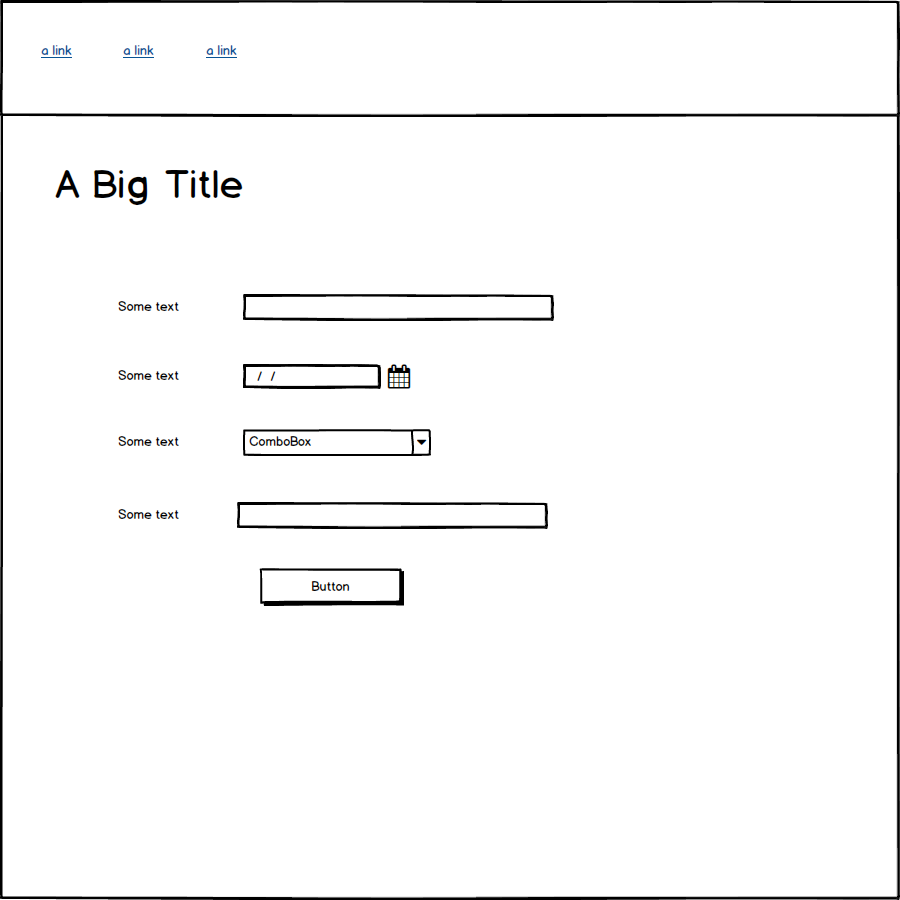button: (252, 564, 412, 614)
date_picker: (238, 360, 413, 395)
h1: (46, 156, 252, 210)
input: (238, 495, 550, 533), (239, 288, 555, 323)
label: (109, 429, 197, 454), (112, 501, 186, 528), (112, 362, 183, 389), (115, 295, 183, 319)
navlink: (198, 34, 244, 64), (115, 33, 155, 64), (34, 38, 76, 64)
select_box: (239, 425, 437, 459)
